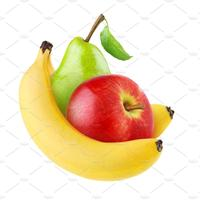apple: (66, 79, 158, 146)
banane: (10, 116, 157, 175)
